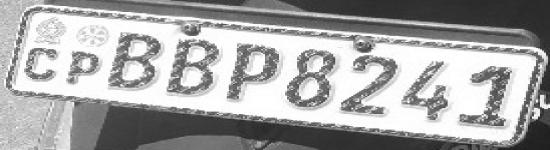1: (456, 63, 523, 135)
2: (338, 51, 399, 120)
4: (400, 56, 456, 128)
8: (282, 44, 336, 112)
B: (102, 28, 163, 94), (162, 35, 223, 101)
C: (22, 44, 61, 84)
P: (224, 38, 282, 106), (61, 48, 102, 90)
